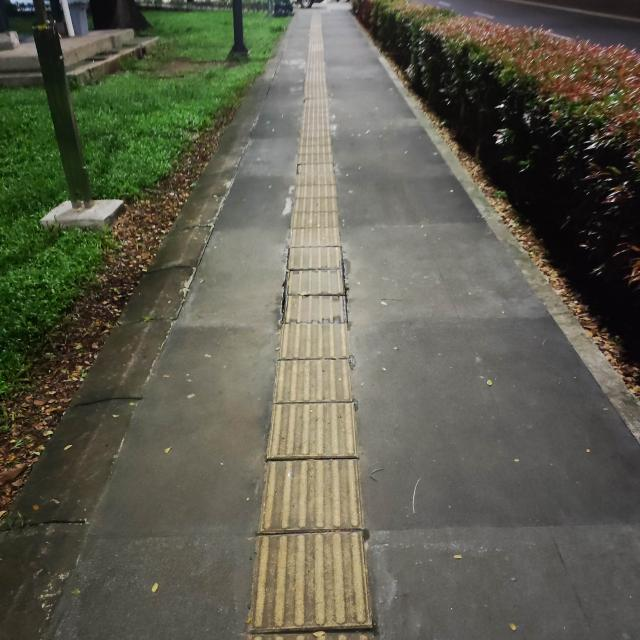lurus: (248, 66, 367, 640)
